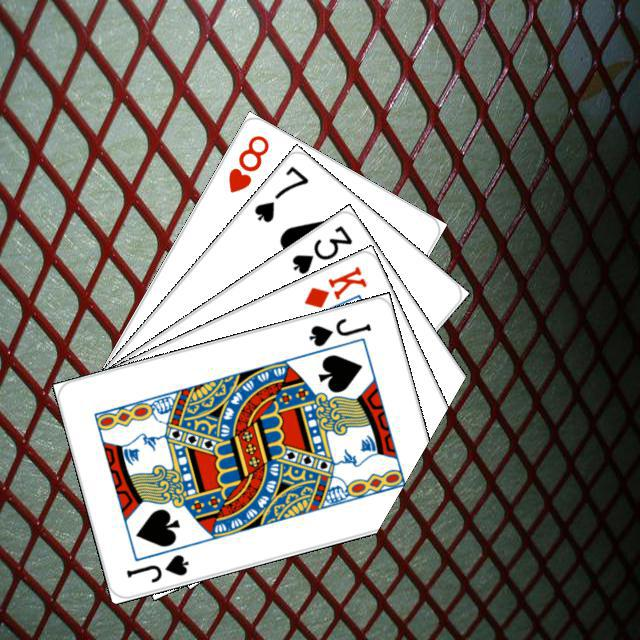3s: (286, 220, 354, 277)
7s: (249, 161, 310, 225)
8h: (223, 129, 271, 195)
Js: (121, 549, 191, 585), (304, 313, 373, 349)
Kd: (299, 261, 369, 310)
